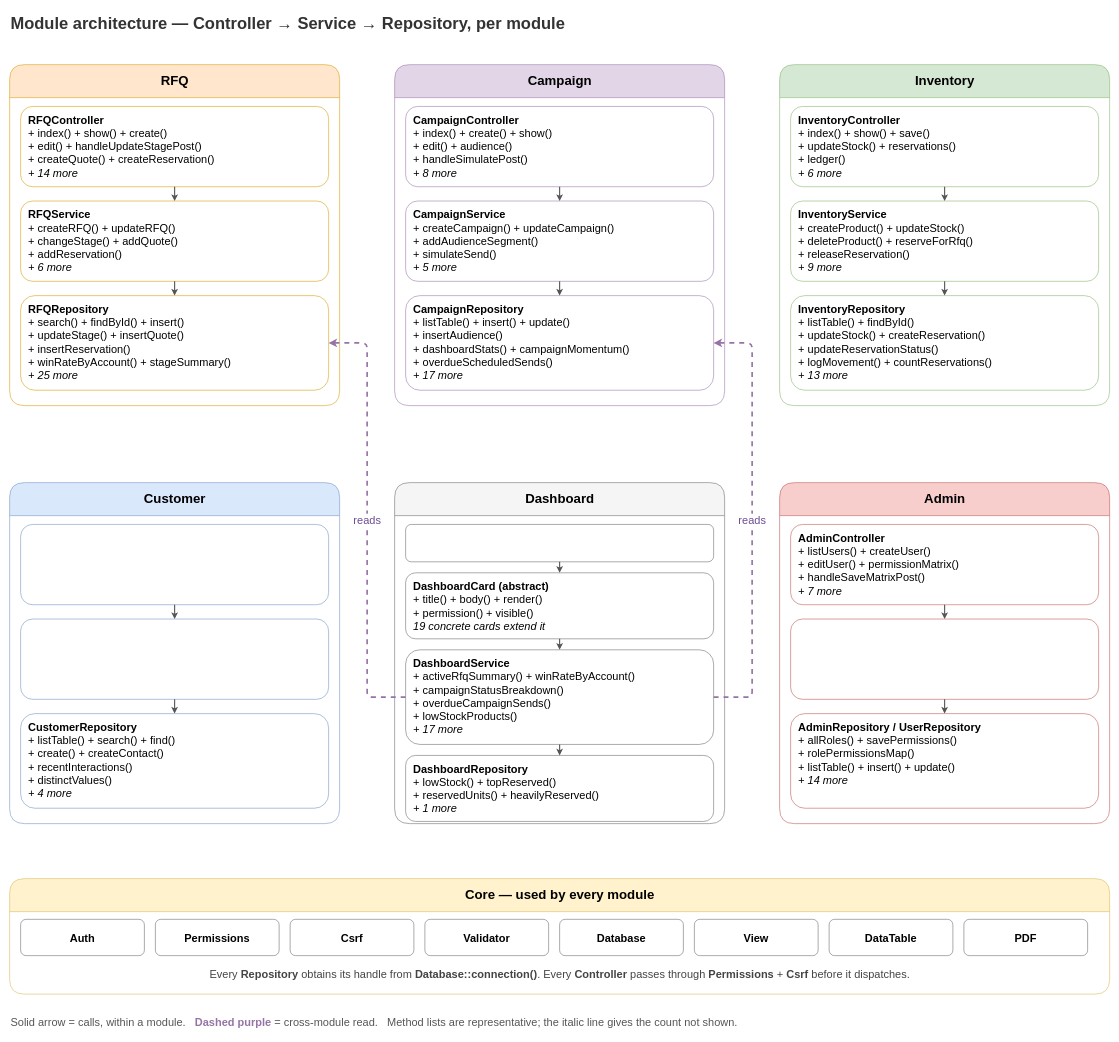
The diagram is 1119 pixels wide and 1042 high, and some of its shapes have lost their labels. The centre of each missing label's shape, as x and y in pixels:
CustomerController + index() the only entry point: the point at 174,564
CustomerService (no public methods yet) placeholder for future rules: the point at 174,658
DashboardController + index(): the point at 559,543
UserService + createUser() + updateUser() + validateUserInput() + 1 more: the point at 944,658
